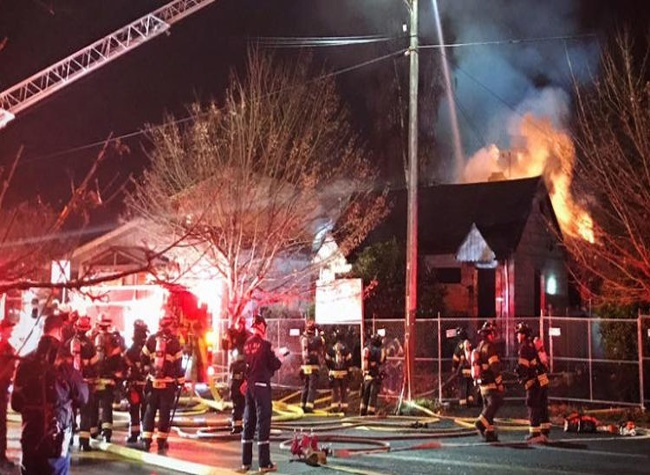Fire: (554, 178, 596, 246)
Smoke: (474, 89, 544, 172)
